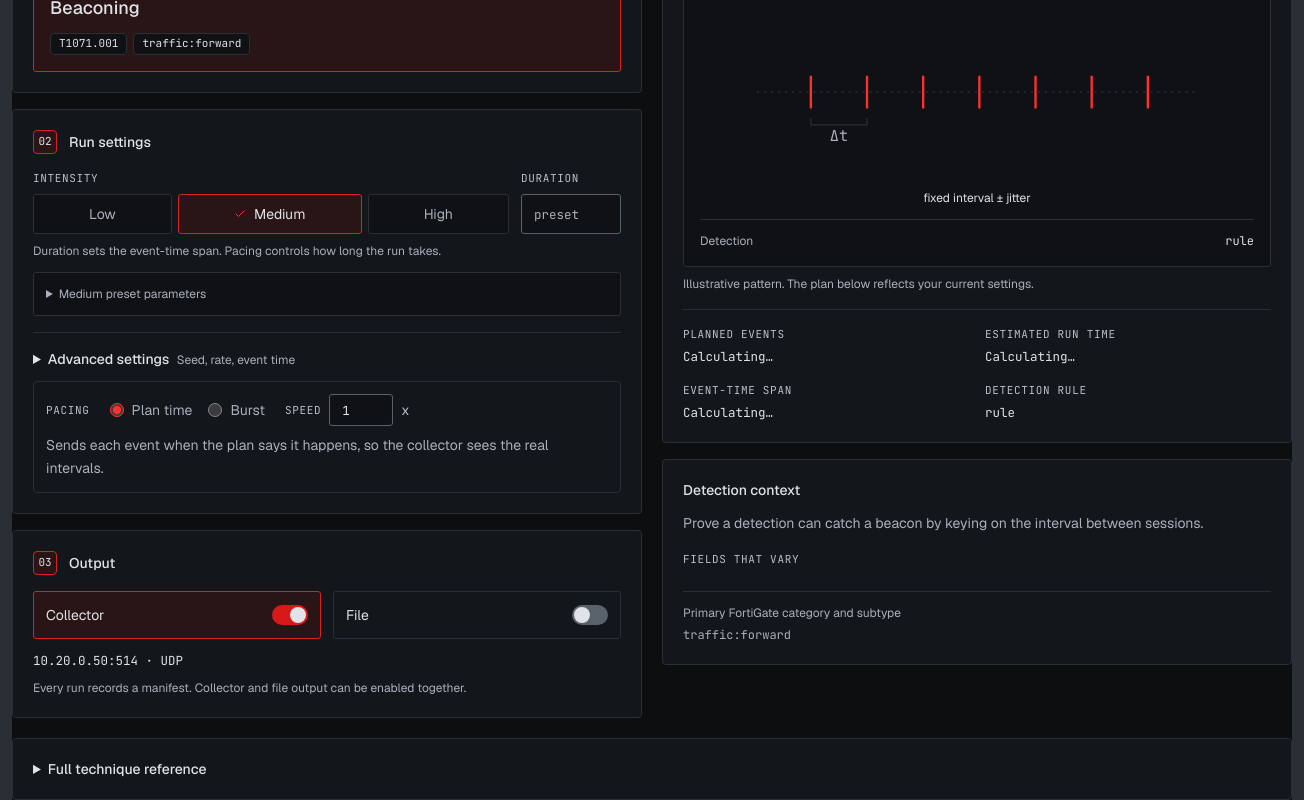
Test case: RunPanel destination › names the file destination when only the file switch is on
The width and height of the screenshot is (1304, 800).
(page scrolled)
Click the 1st switch named "Collector".
click(290, 615)  # box [272, 605, 308, 625]
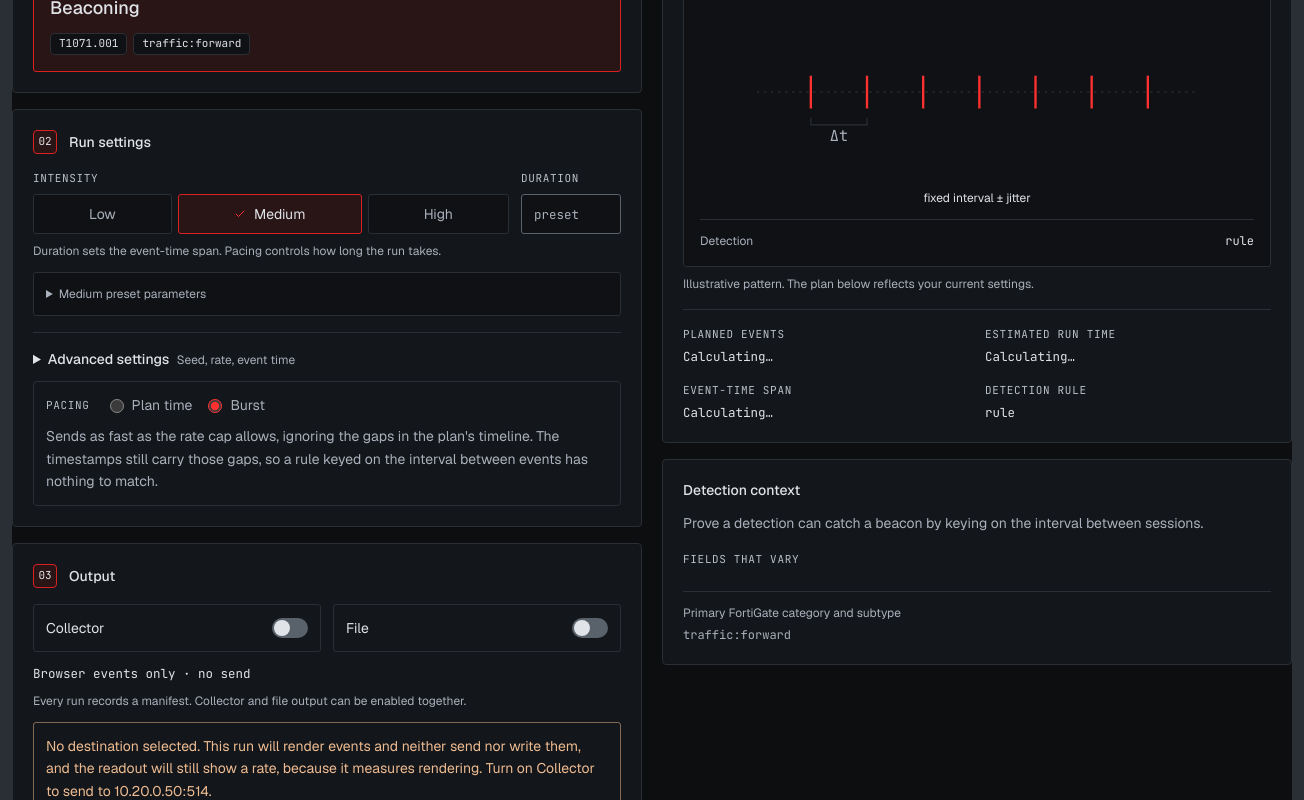
Click the 2nd switch named "File".
click(590, 628)  # box [572, 618, 608, 638]
(page scrolled)
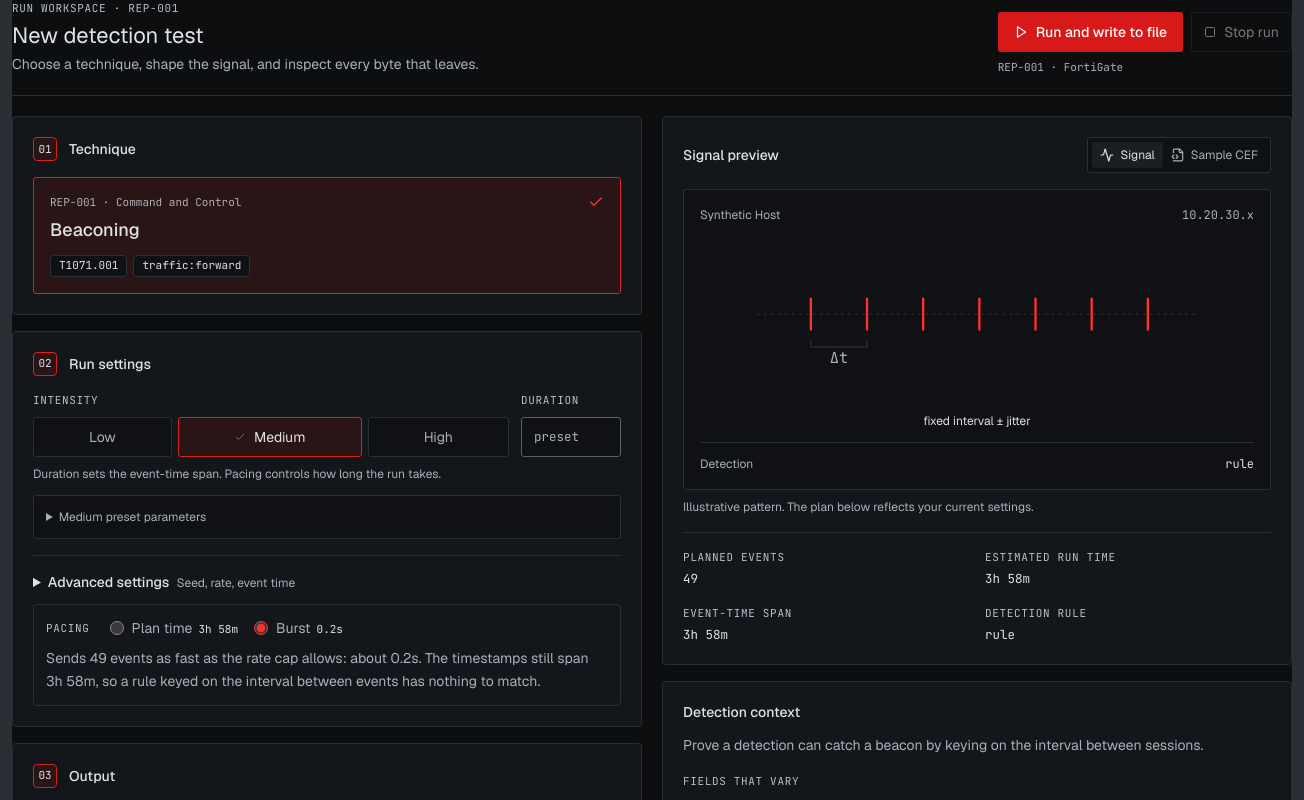
Check: the button "Run and write to file" is shown, box [998, 12, 1183, 52]
